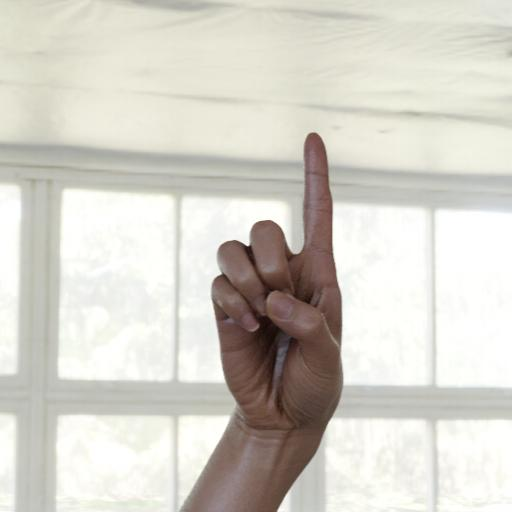D: (194, 122, 392, 438)
